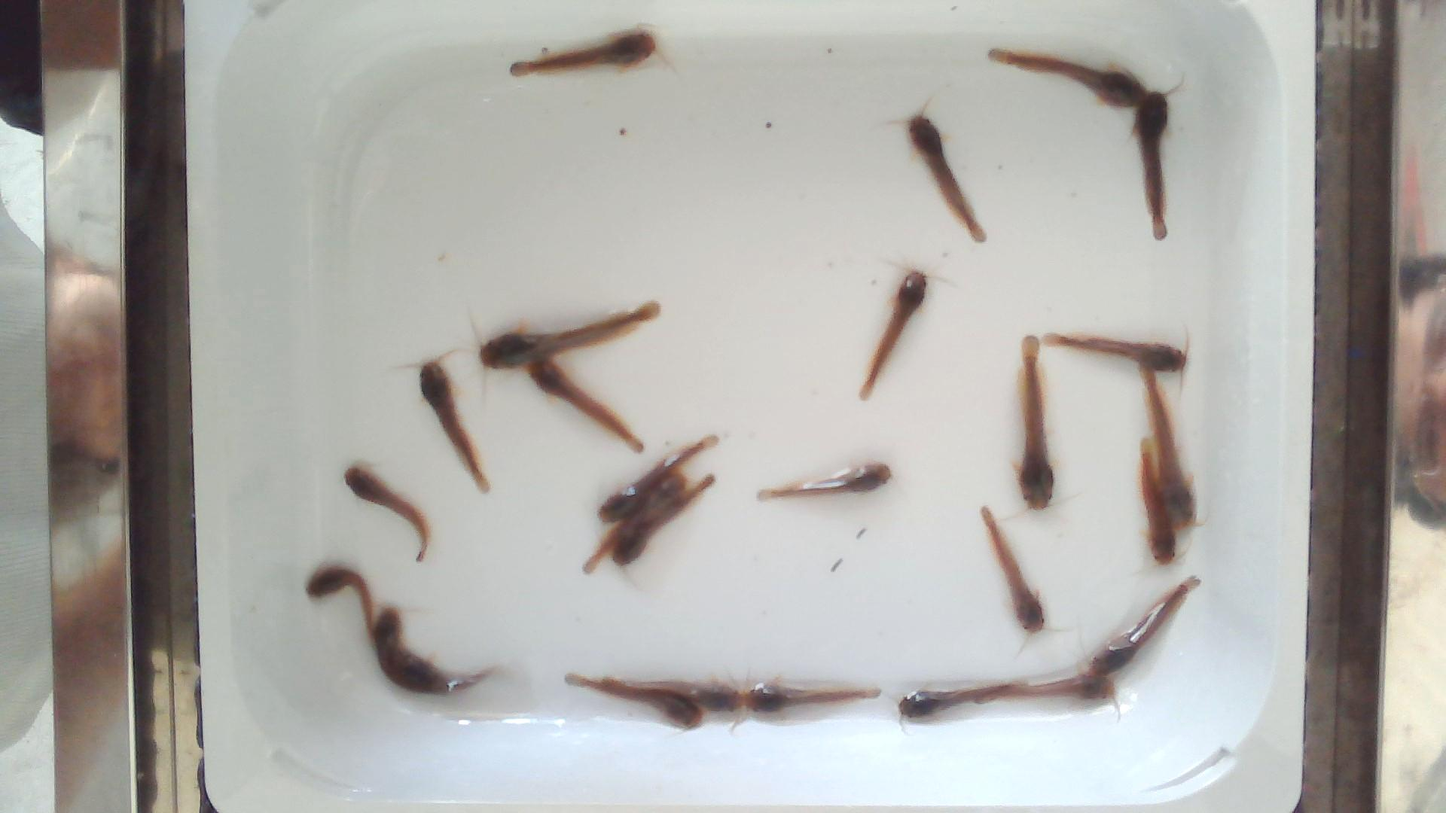lele: (481, 302, 661, 370), (1087, 576, 1200, 675), (527, 358, 643, 452), (582, 471, 688, 573), (597, 435, 720, 522), (908, 111, 985, 242), (612, 473, 715, 566), (1140, 366, 1197, 533), (990, 48, 1146, 107), (419, 361, 489, 492), (860, 270, 927, 398), (344, 464, 430, 561), (980, 506, 1045, 633), (565, 674, 702, 725), (510, 29, 657, 76), (1018, 336, 1054, 509), (375, 608, 441, 694), (605, 674, 742, 713), (1043, 334, 1186, 371), (758, 461, 891, 499), (1135, 91, 1168, 240), (306, 564, 371, 635), (1141, 436, 1176, 565), (898, 681, 1024, 716), (977, 674, 1114, 705), (742, 683, 881, 713), (399, 654, 494, 691)
